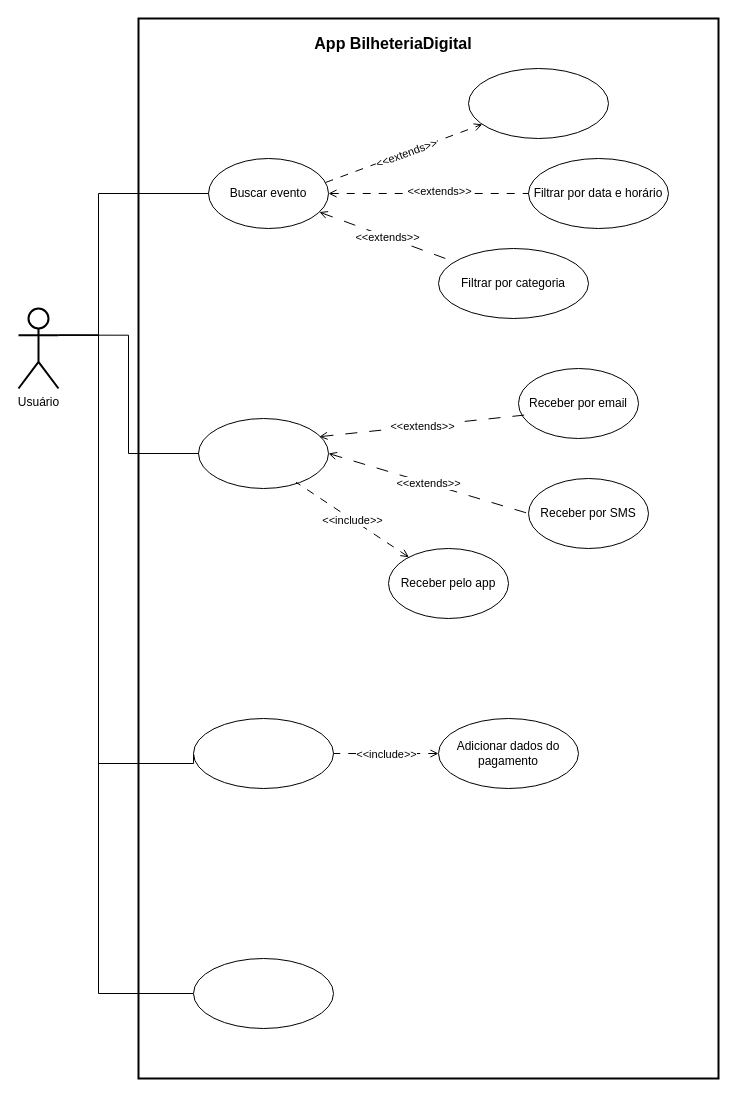
Some shapes in this 736 by 1096 pixel diagram are drawn without their labels. Each missing label, with the centre of its shape:
"Ativar notificação sobre eventos" goes at (x=263, y=453).
"Conectar carteira digital" goes at (x=263, y=753).
"Filtrar por município" goes at (x=538, y=103).
"Responder pesquisa de perfil" goes at (x=263, y=993).
